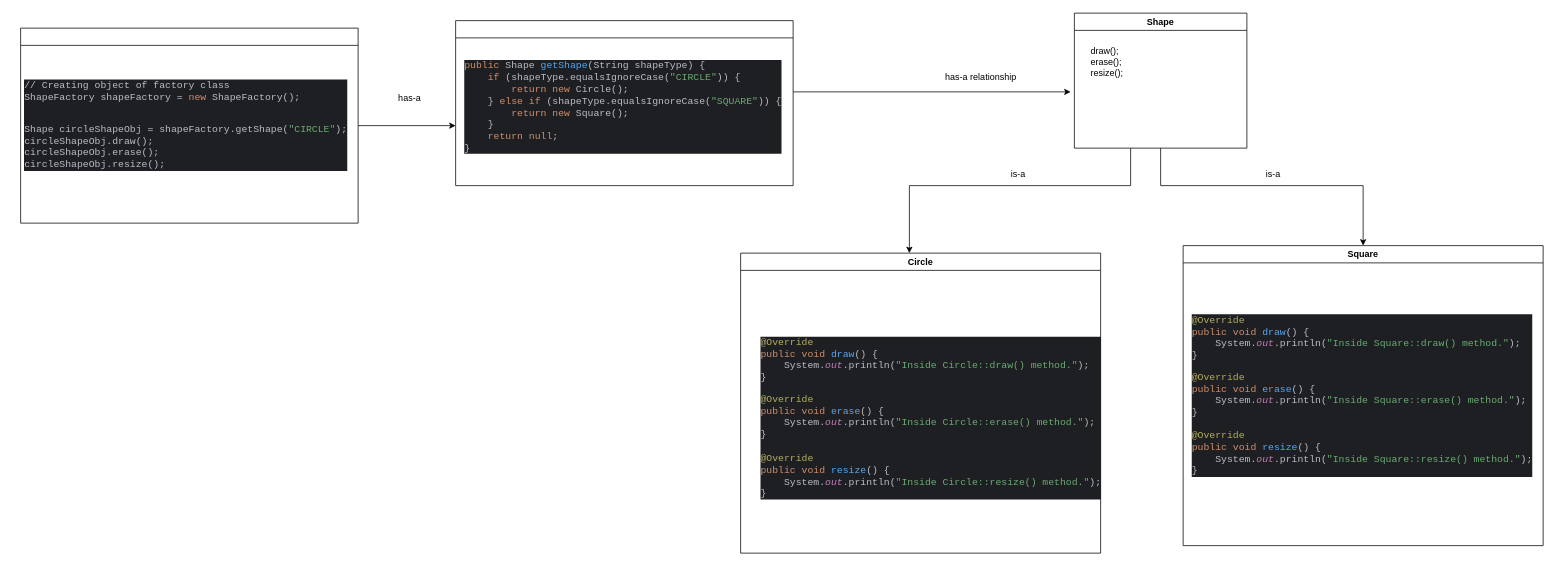
Image size: 1563x566. Some labels were removed from this diagram. Here are the shapes that lost their labels. From the top down, the box of each, then its label:
(455, 20, 793, 186): ShapeFactory
(20, 27, 358, 223): Main
